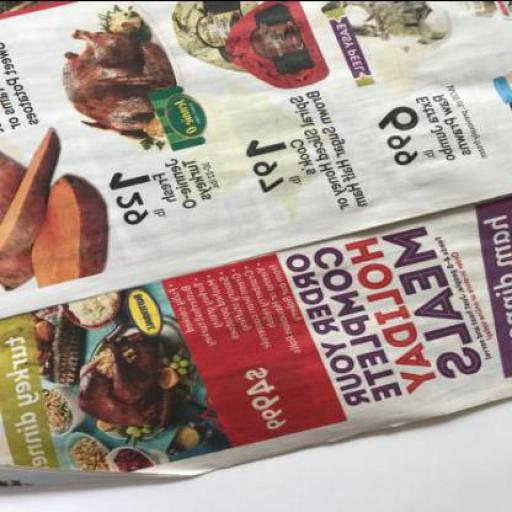paper: (0, 1, 511, 486)
